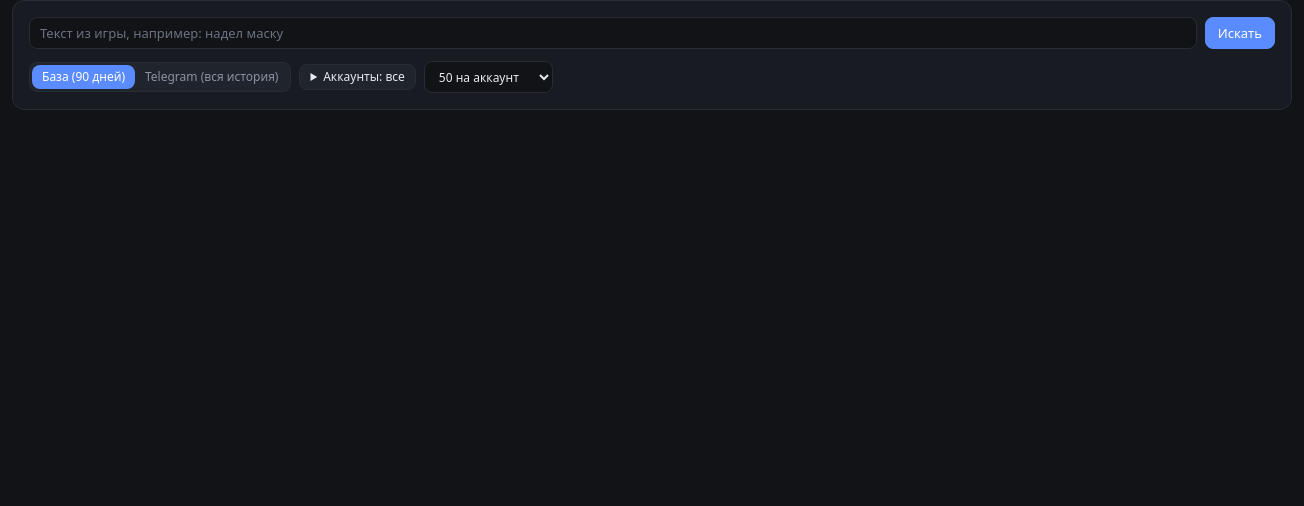
Test: экран «Поиск» › отправка формы выполняет поиск и обновляет URL через replaceState
Type "маска" into the search field with placeholder "Текст из игры, например: надел маску" at (613, 33), box [29,17,1197,49]
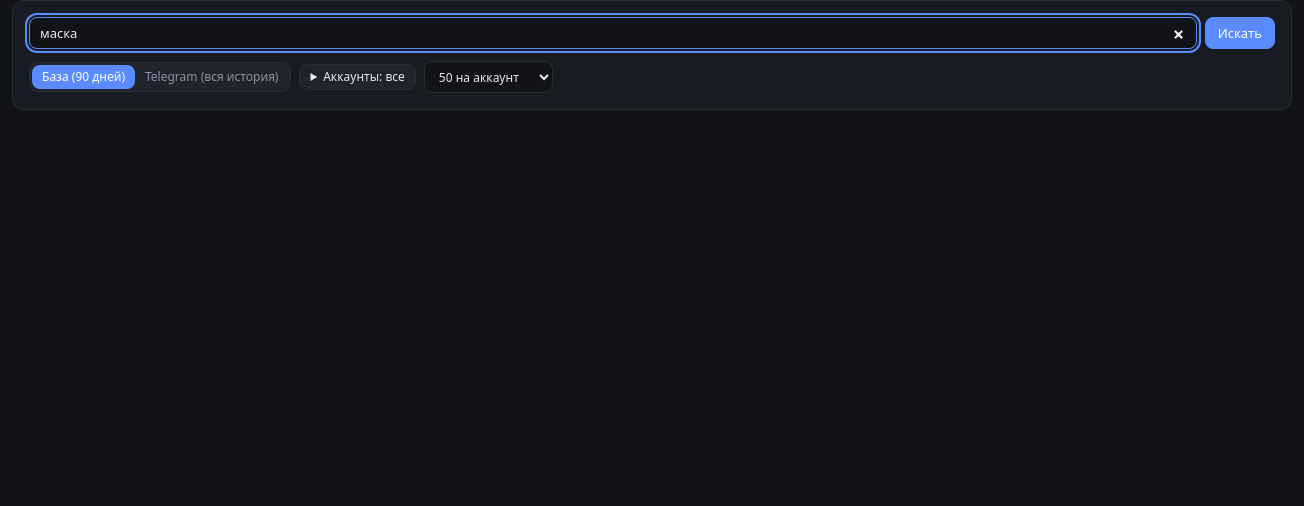
Click the button "Искать" at (1240, 33), box [1205,17,1275,49]
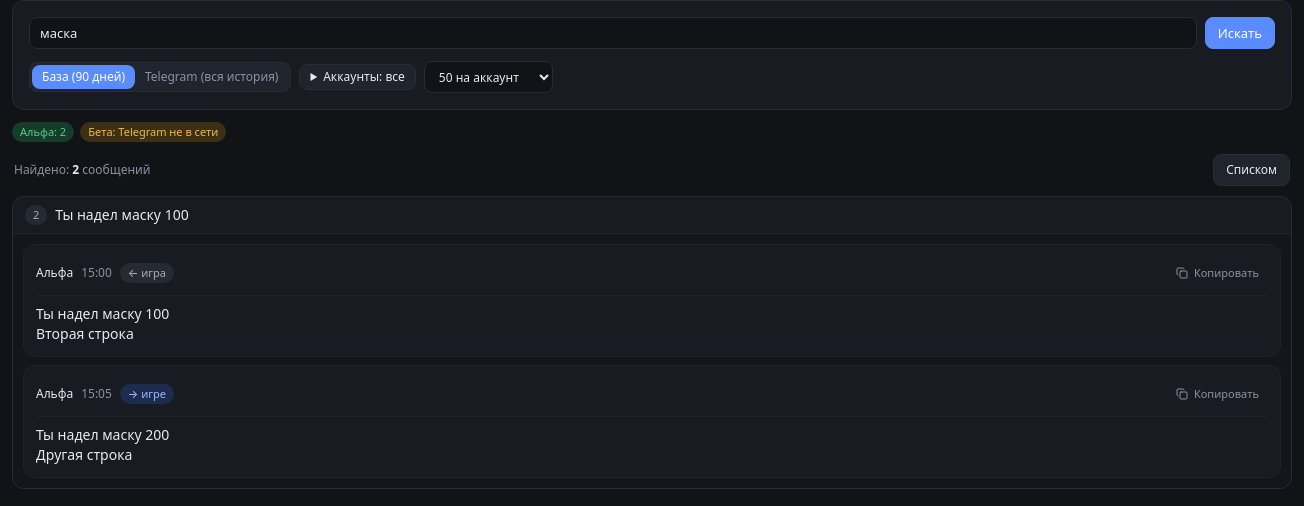
Expected: the text "Альфа: 2" is shown, [12,122,74,142]
Expected: the text "Бета: Telegram не в сети" is shown, [80,122,226,142]
Expected: the text "Ты надел маску 100" is shown, [55,205,189,225]
